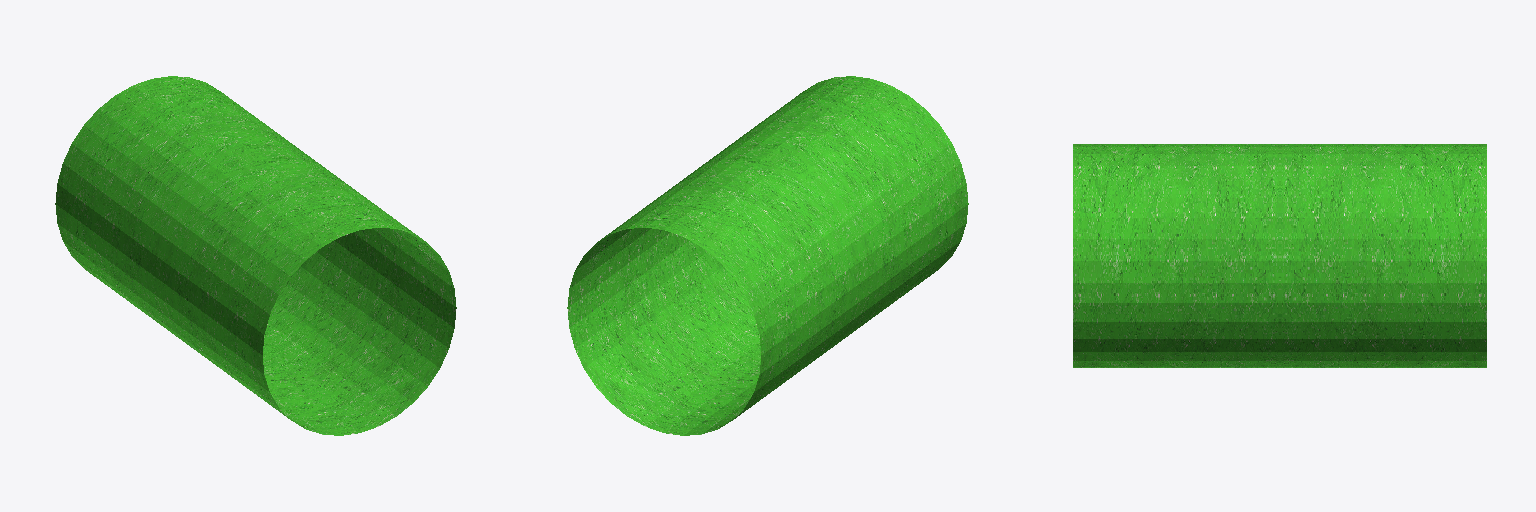
The picture shows the model from 3 angles: view 1: azimuth 30°, elevation 25°; view 2: azimuth 150°, elevation 25°; view 3: azimuth 270°, elevation 25°; orthographic projection.
Parts seen in each view (by area): view 1: DokanStraight8m__BodyMT.002; view 2: DokanStraight8m__BodyMT.002; view 3: DokanStraight8m__BodyMT.002.
Boxes of the visible parts, x1,y1,x2,y2 form: DokanStraight8m__BodyMT.002: [55, 76, 456, 435]; DokanStraight8m__BodyMT.002: [567, 76, 968, 435]; DokanStraight8m__BodyMT.002: [1073, 144, 1486, 367].
Bounding box in the file's own units: 0.6967 × 0.6967 × 1.29.
Materials: 1 (1 with a texture image).